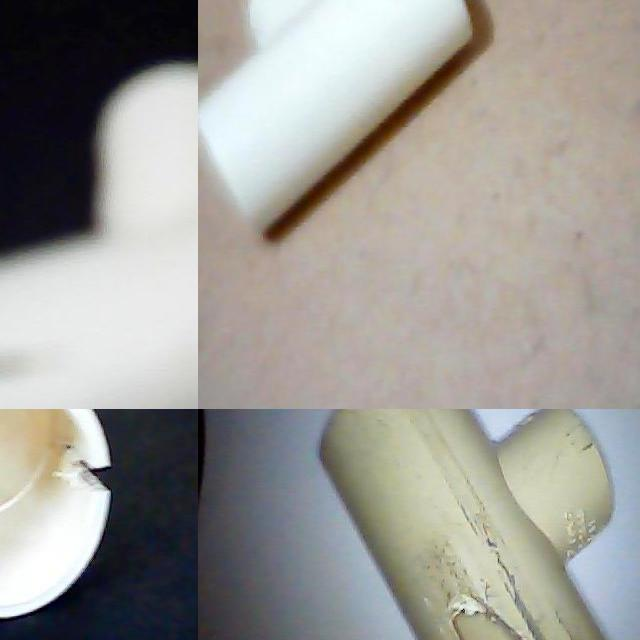Defective: (450, 458, 544, 640), (434, 585, 573, 640), (62, 425, 119, 508)
T Joint: (198, 0, 488, 244), (318, 409, 616, 640), (0, 67, 198, 409)
